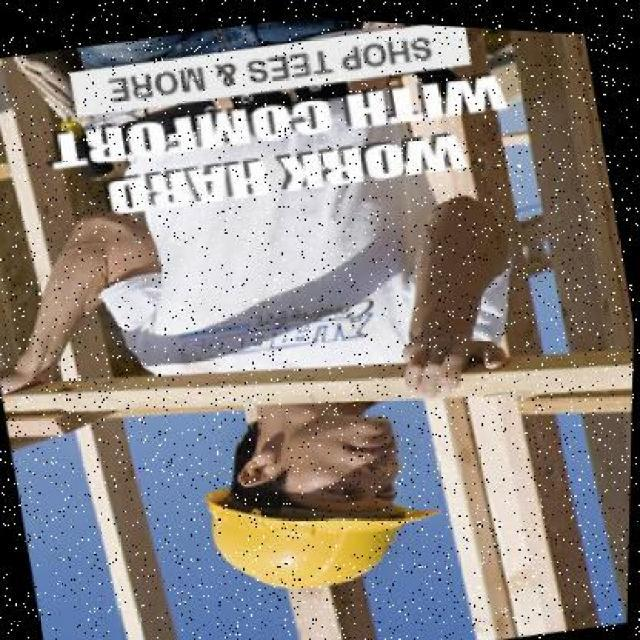helmet: (171, 440, 459, 621)
